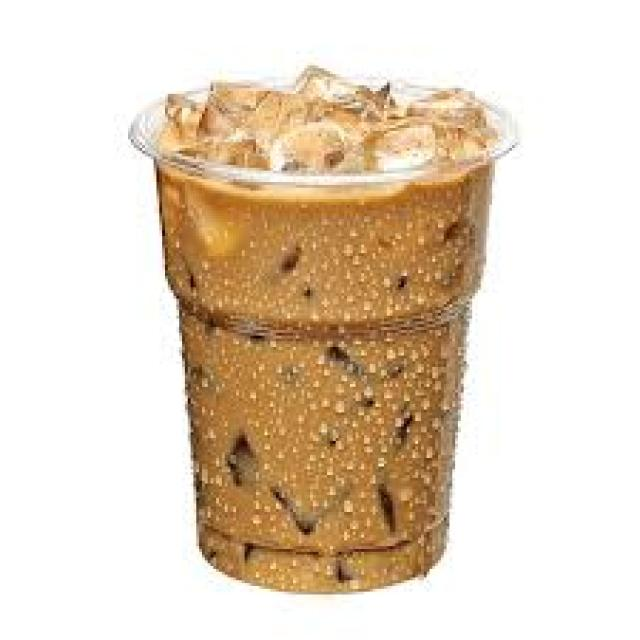bottle: (130, 66, 516, 592)
